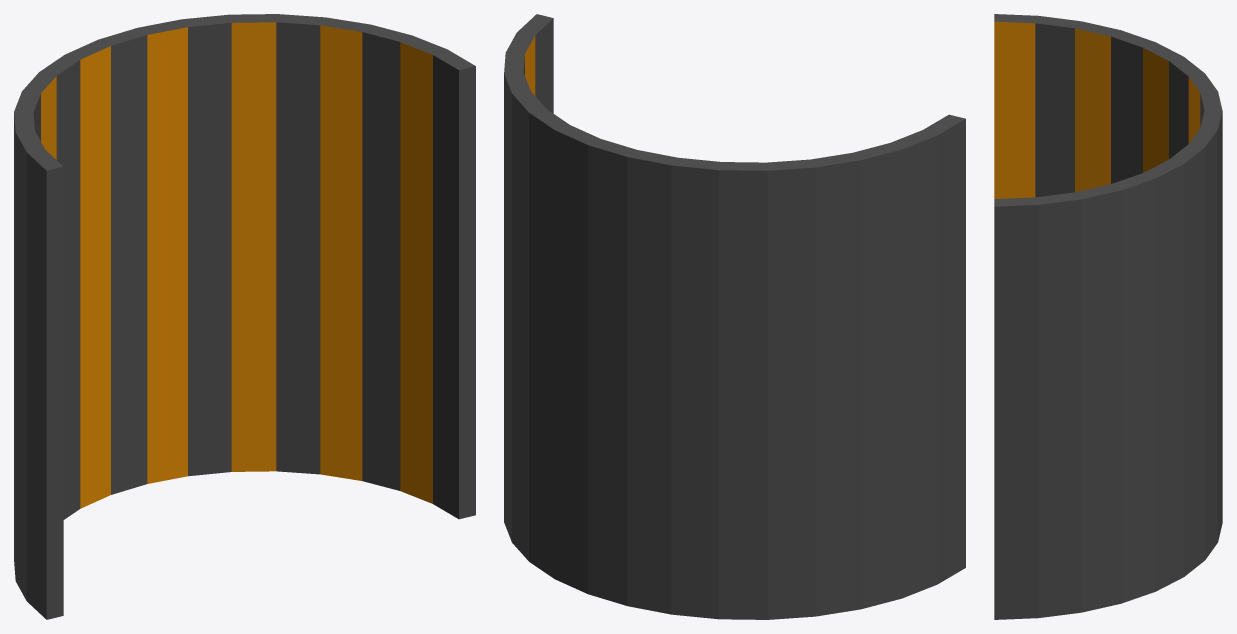
3 views of the same model, side by side, from view 1: azimuth 30°, elevation 25°; view 2: azimuth 150°, elevation 25°; view 3: azimuth 270°, elevation 25° (orthographic). The views are drawn at different scales.
Visible parts, largest first — view 1: Cylinder; view 2: Cylinder; view 3: Cylinder.
Part boxes in pixels (<box>): Cylinder: <box>14,14,475,619</box>; Cylinder: <box>504,14,965,619</box>; Cylinder: <box>994,14,1222,619</box>.
Bounding box in the file's own units: 20 × 10 × 20.
